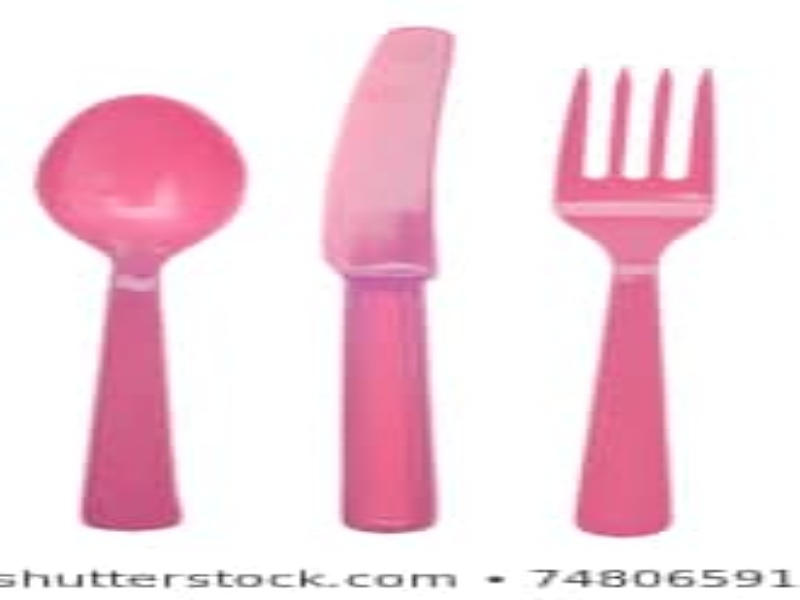plastic-silverware: (30, 94, 252, 535), (552, 62, 713, 541), (321, 26, 459, 537)
